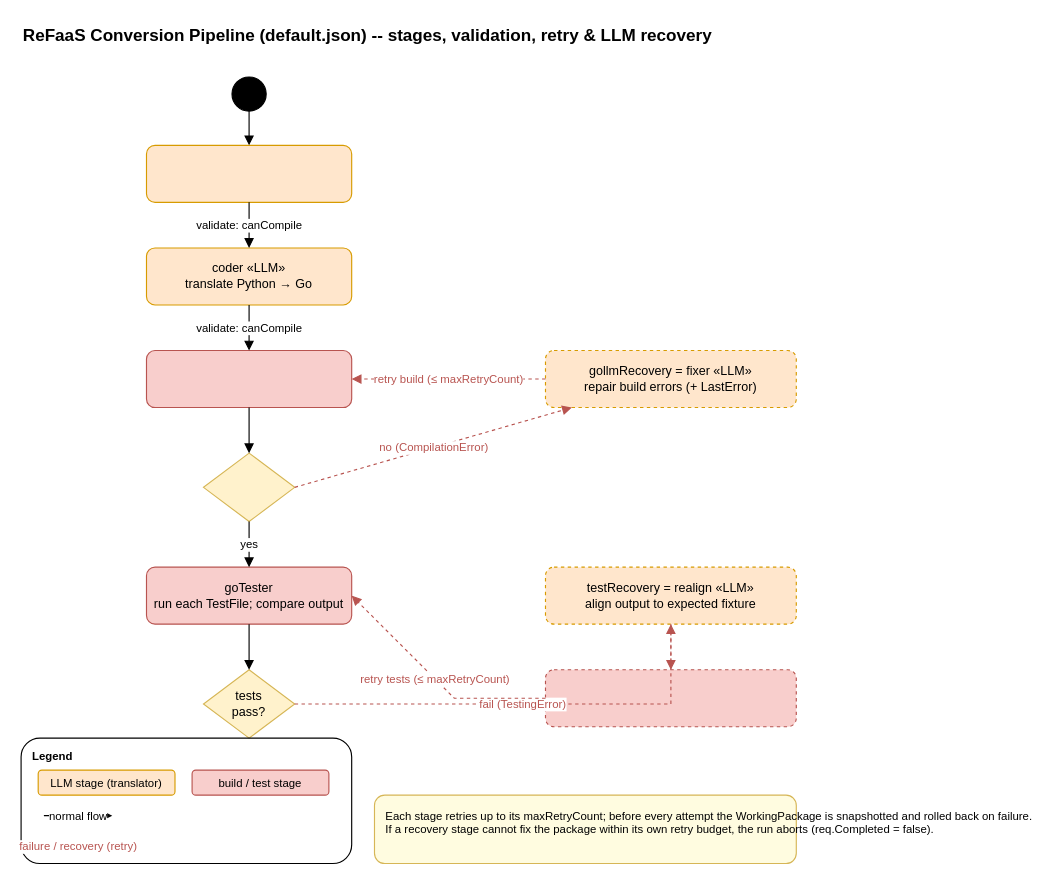
Some shapes in this 1052 by 884 pixel diagram are drawn without their labels. The shapes that lost their labels are listed below. From the top down, each one's box as (x1, y1, x2, y2) in pixels, then its label:
(145, 144, 352, 202): cleaner «LLM» normalize / summarize source
(145, 349, 352, 408): goBuilder compile Go package
(202, 452, 295, 522): build ok?
(544, 669, 796, 727): testRecoveryBuild = goBuilder rebuild realigned package
